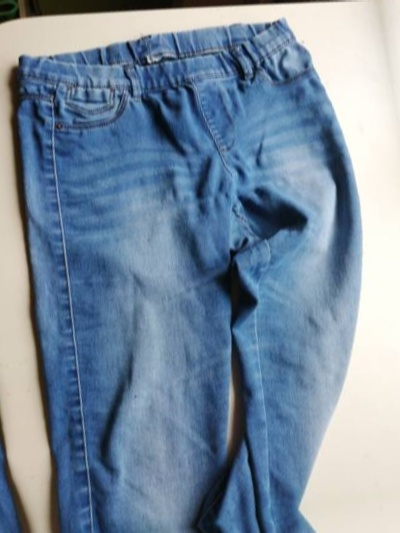Pants: (0, 0, 400, 533), (62, 492, 400, 533), (0, 57, 26, 533)
